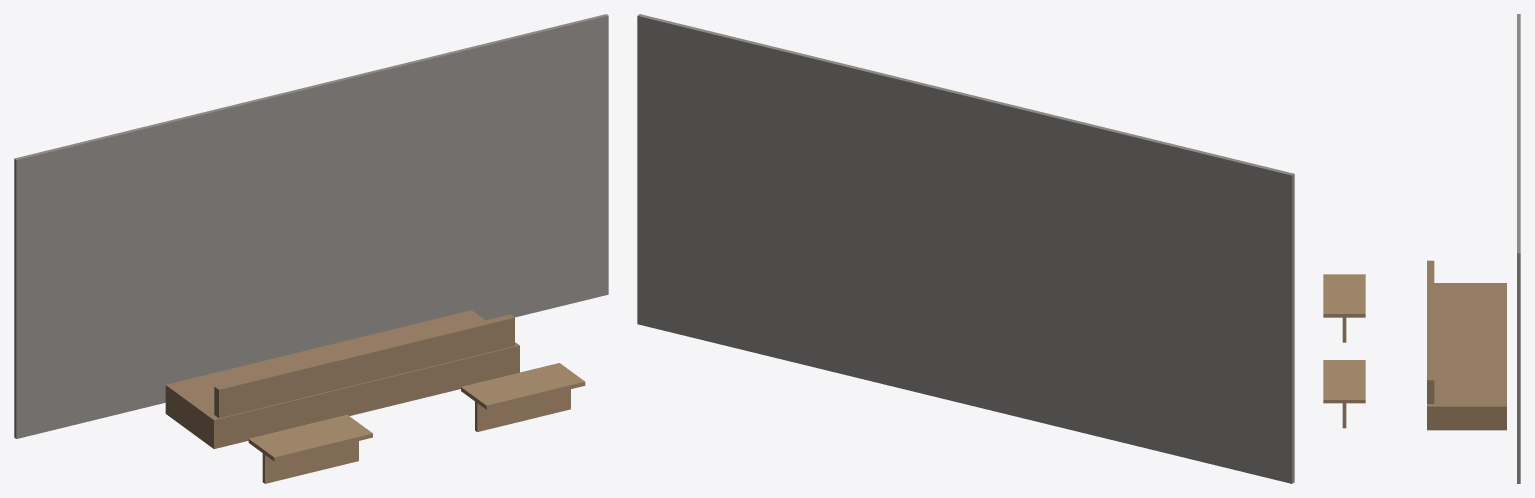
File: court.glb
3 views of the same model, side by side, from view 1: azimuth 30°, elevation 25°; view 2: azimuth 150°, elevation 25°; view 3: azimuth 270°, elevation 25° (orthographic). The views are drawn at different scales.
Visible parts, largest first — view 1: wall, bench, table-left, table-right; view 2: wall; view 3: bench, table-left, table-right, wall.
Boxes of the visible parts, <box> form: wall: <box>14,14,608,438</box>; bench: <box>165,310,519,448</box>; table-left: <box>248,414,372,483</box>; table-right: <box>461,363,585,431</box>; wall: <box>637,14,1294,483</box>; bench: <box>1427,260,1506,430</box>; table-left: <box>1323,274,1365,342</box>; table-right: <box>1323,360,1365,428</box>; wall: <box>1517,14,1520,483</box>.
Bounding box in the file's own units: 12 × 5.5 × 4.19.
